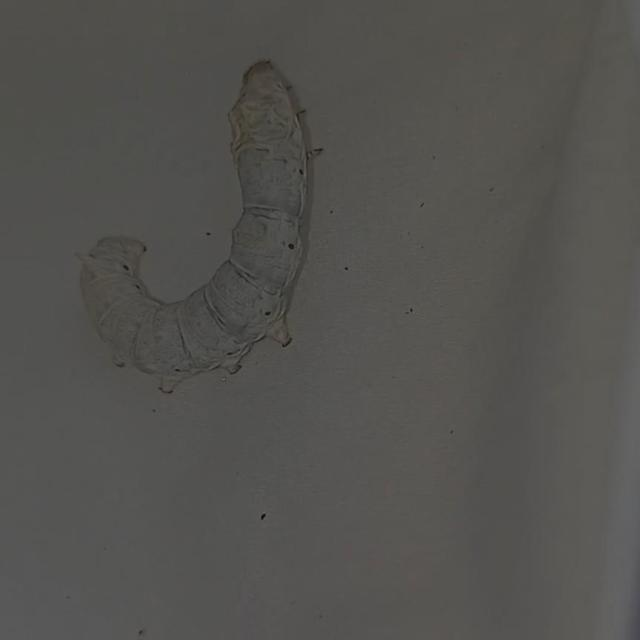Healthy: (54, 36, 374, 418)
